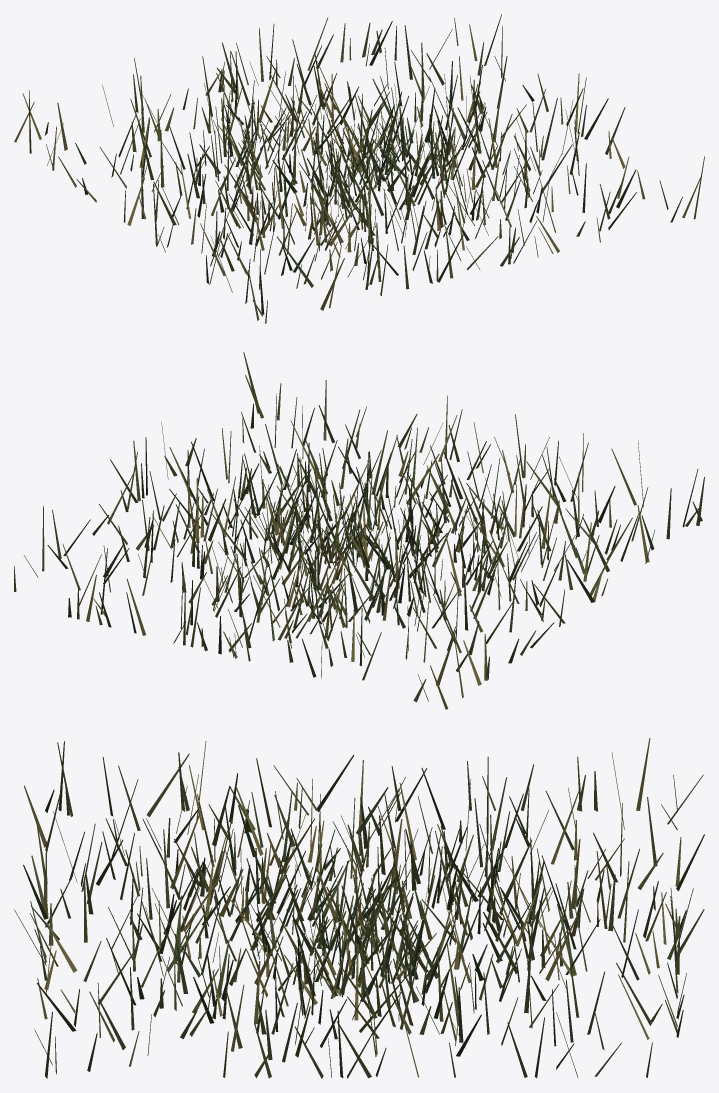
File: SM_80s_GrassPatch_A.glb
The picture shows the model from 3 angles, top to bottom: view 1: azimuth 30°, elevation 25°; view 2: azimuth 150°, elevation 25°; view 3: azimuth 270°, elevation 25°; orthographic projection. The views are drawn at different scales.
Visible parts, largest first — view 1: SM_80s_GrassPatch_A; view 2: SM_80s_GrassPatch_A; view 3: SM_80s_GrassPatch_A.
Part boxes in pixels (x1,y1,x2,y2): SM_80s_GrassPatch_A: [14, 14, 704, 323]; SM_80s_GrassPatch_A: [14, 352, 704, 709]; SM_80s_GrassPatch_A: [14, 738, 704, 1078].
Bounding box in the file's own units: 4.55 × 0.5585 × 4.6.
